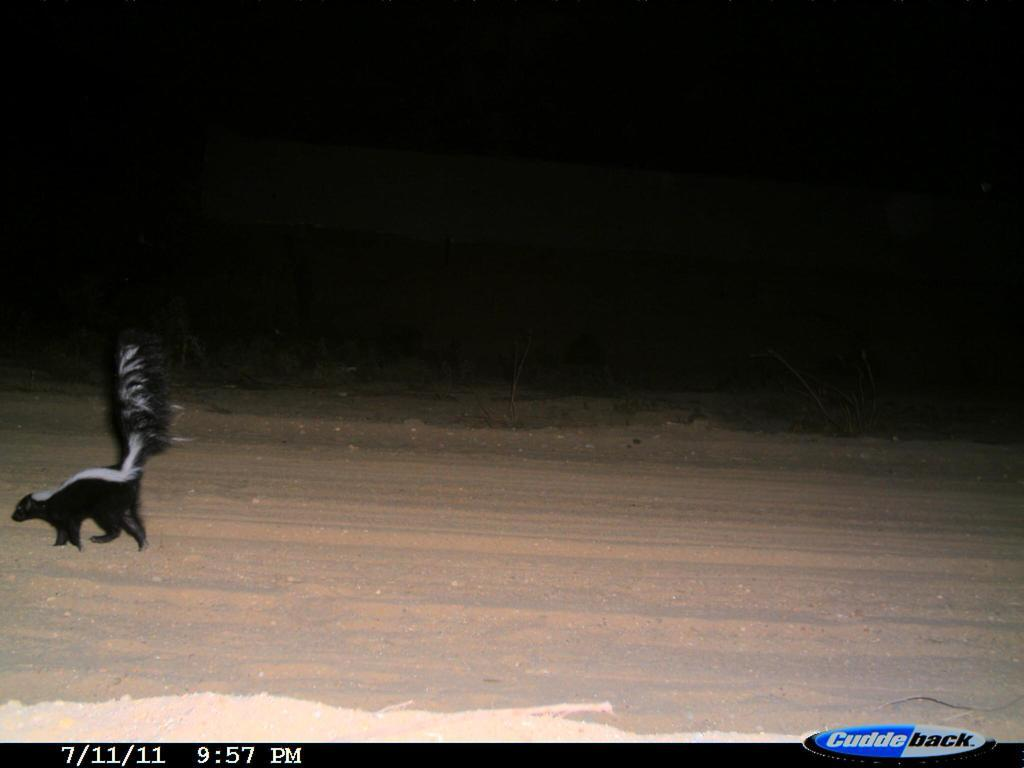skunk: (6, 331, 225, 568)
